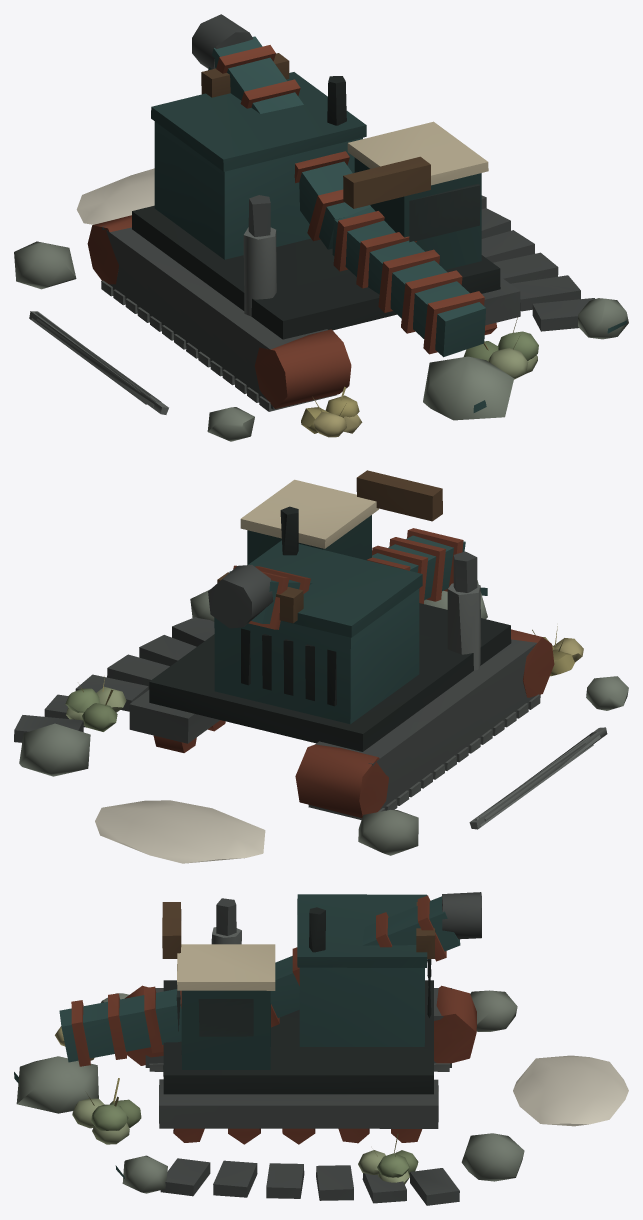
File: drill_rig_wreck_b_lod2.glb
3 renders of one model, top to bottom at view 1: azimuth 30°, elevation 25°; view 2: azimuth 150°, elevation 25°; view 3: azimuth 270°, elevation 25°, orthographic. The views are drawn at different scales.
Parts seen in each view (by area): view 1: Surface.001; view 2: Surface.001; view 3: Surface.001.
Part boxes in pixels (left/top/right/bottom): Surface.001: left=14, top=14, right=628, bottom=441; Surface.001: left=14, top=470, right=628, bottom=863; Surface.001: left=14, top=892, right=628, bottom=1205.
Bounding box in the file's own units: 10.53 × 5.16 × 13.56.
